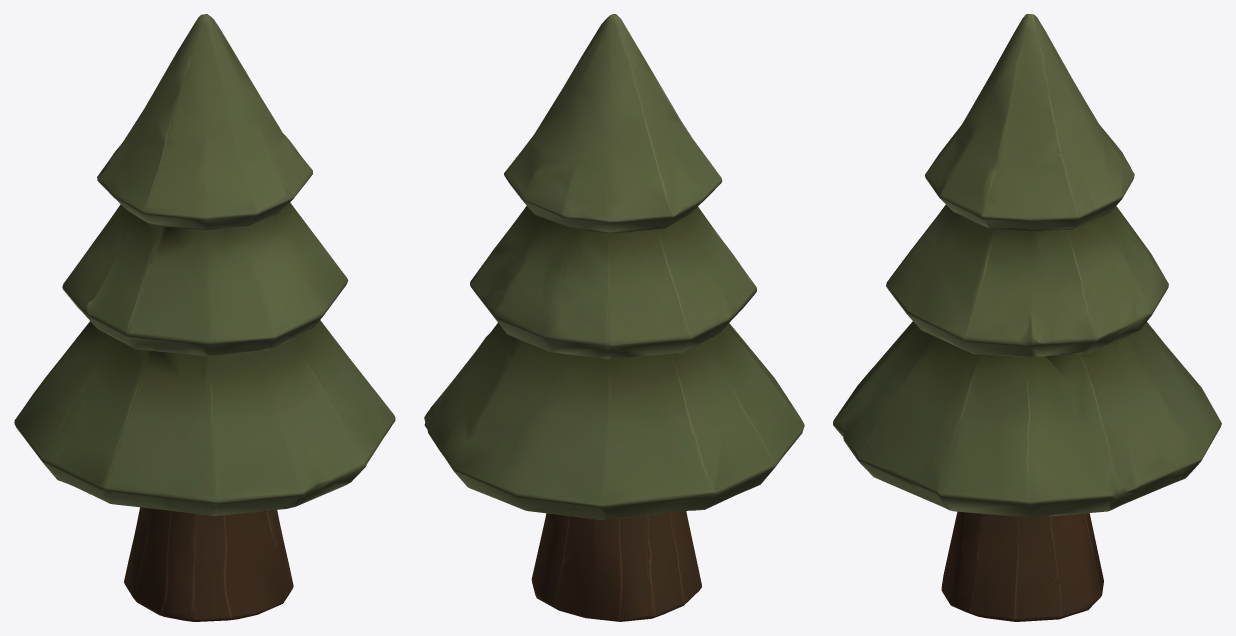
Rendered from tree.med.glb.
3 views of the same model, side by side, from view 1: azimuth 30°, elevation 25°; view 2: azimuth 150°, elevation 25°; view 3: azimuth 270°, elevation 25° (orthographic).
Visible parts, largest first — view 1: tripo_node_02121249-2ac3-4837-b788-1b205908f58e; view 2: tripo_node_02121249-2ac3-4837-b788-1b205908f58e; view 3: tripo_node_02121249-2ac3-4837-b788-1b205908f58e.
Boxes of the visible parts, left/top/right/bottom form: tripo_node_02121249-2ac3-4837-b788-1b205908f58e: left=14, top=14, right=395, bottom=621; tripo_node_02121249-2ac3-4837-b788-1b205908f58e: left=424, top=14, right=804, bottom=621; tripo_node_02121249-2ac3-4837-b788-1b205908f58e: left=833, top=14, right=1221, bottom=621.
Size of the model in its own units: 0.5888 by 1 by 0.6089.
Materials: 1 (1 with a texture image).
